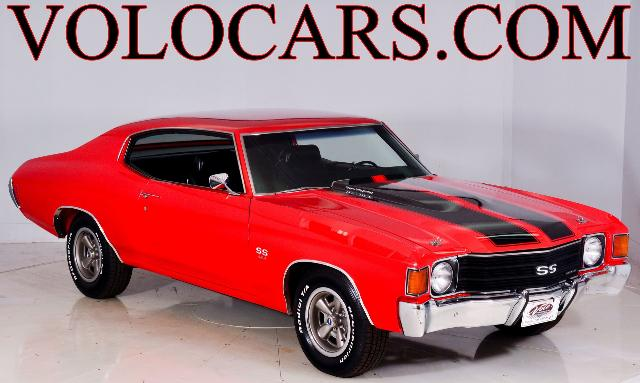chevelle-1972: (9, 110, 631, 377)
